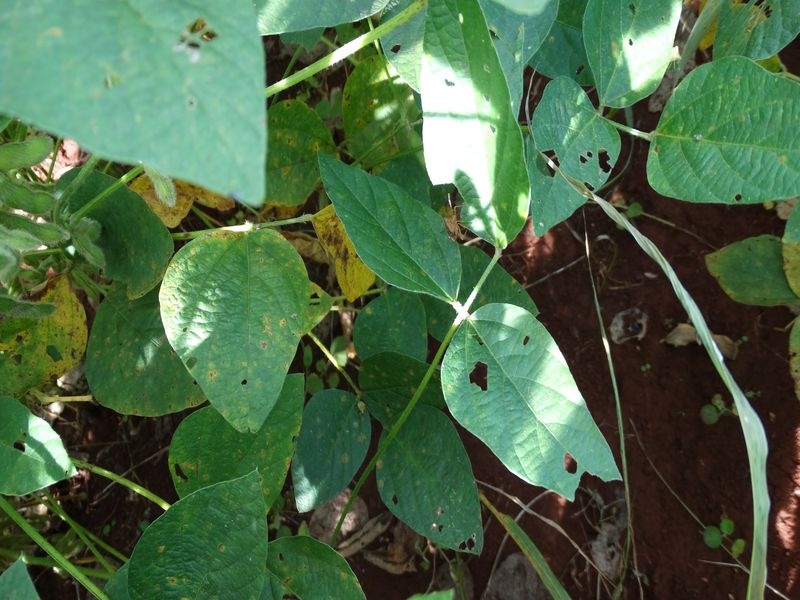Euschistus_heros_adulto: (428, 192, 476, 249)
